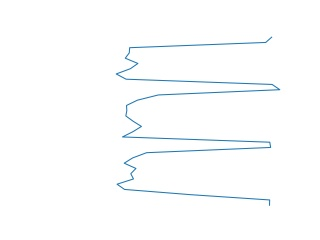majorRiverChannelBar: (112, 37, 284, 205)
